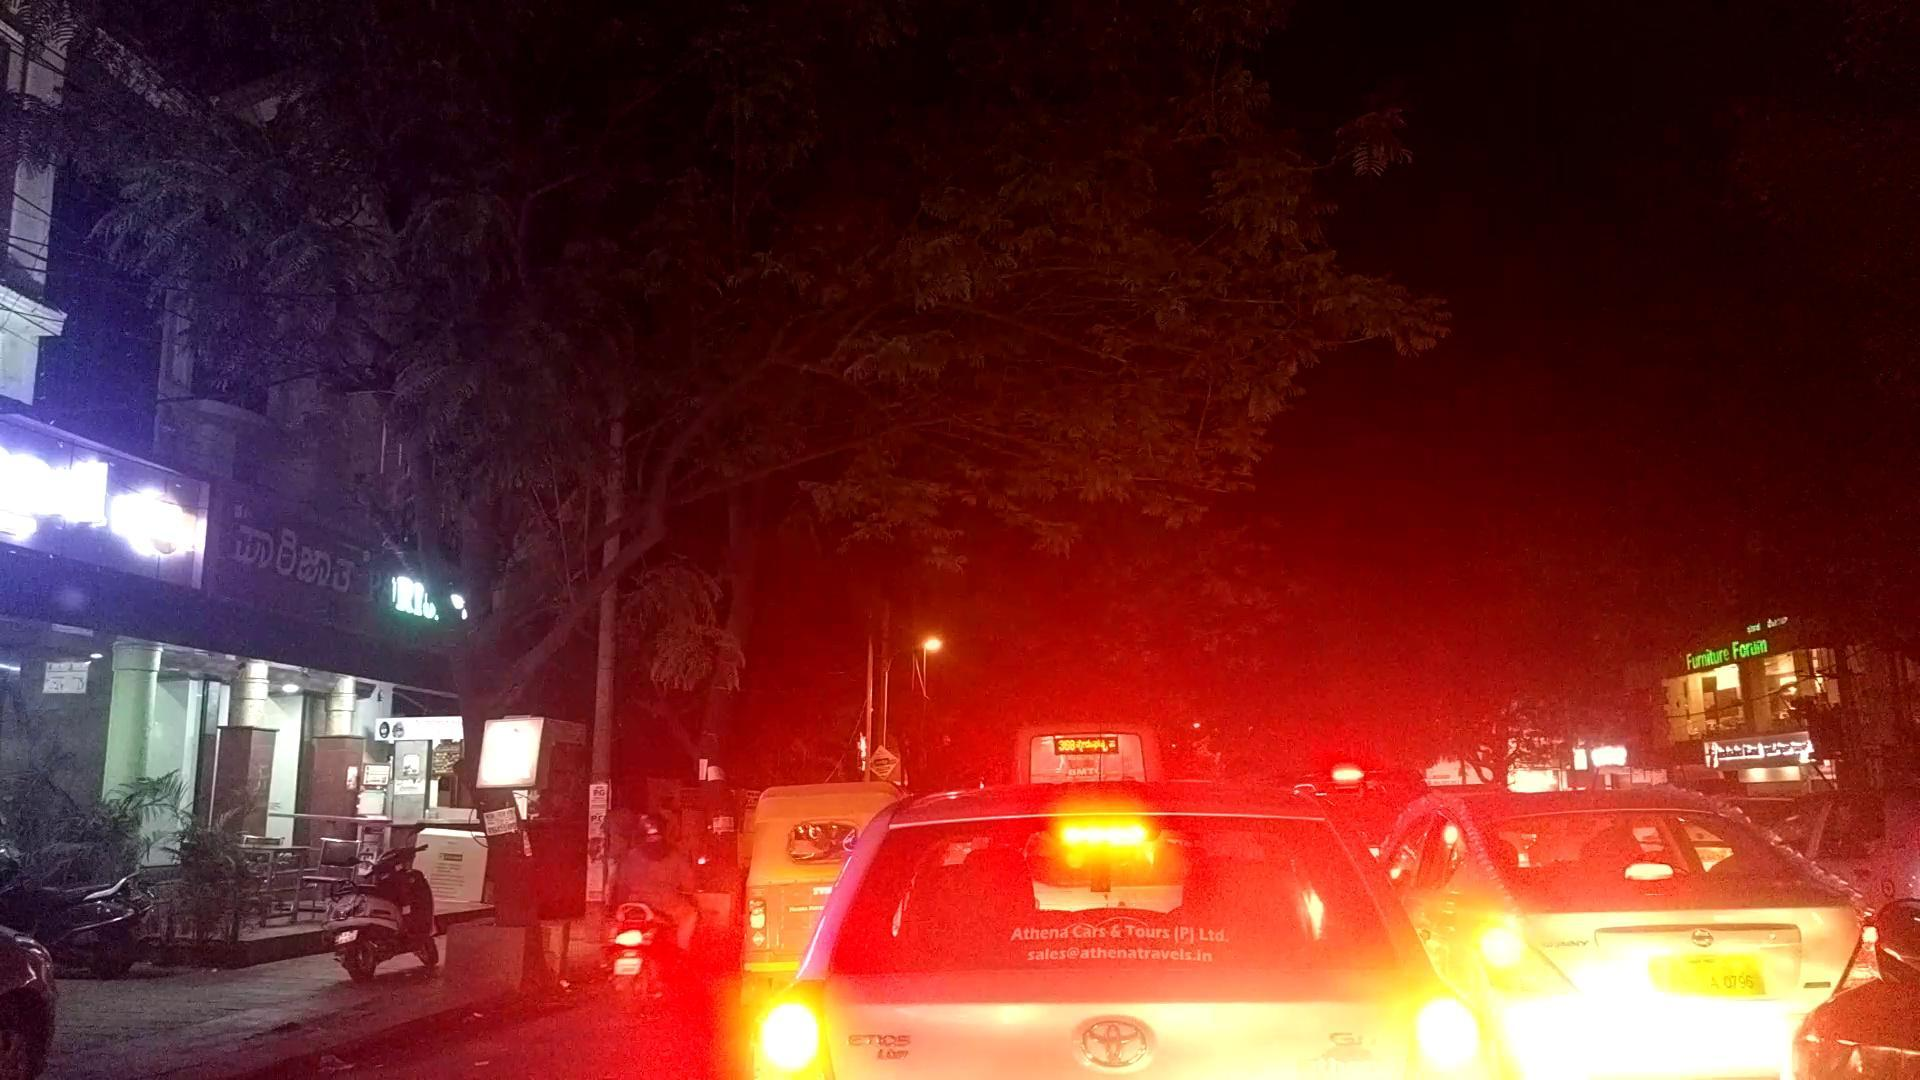on: (0, 82, 1783, 1080)
